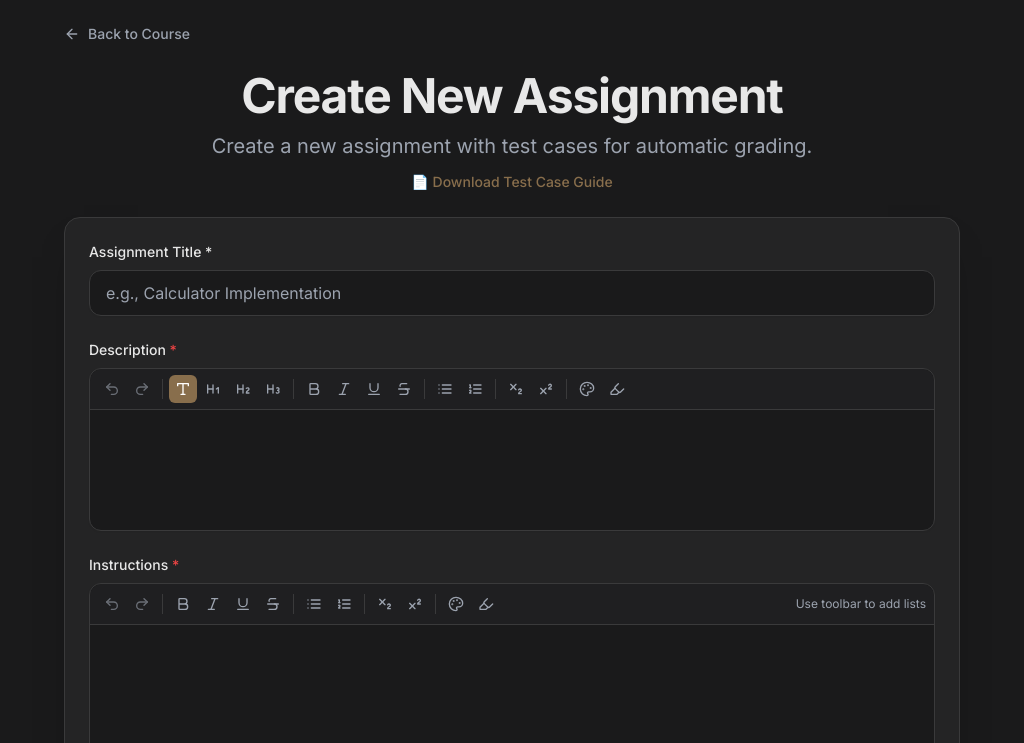
CreateAssignmentPage › validates required fields
This screenshot has width=1024, height=743.
Type "Homework 1" into the field labelled "Assignment Title *" at (512, 293), box [89,270,935,316]
(page scrolled)
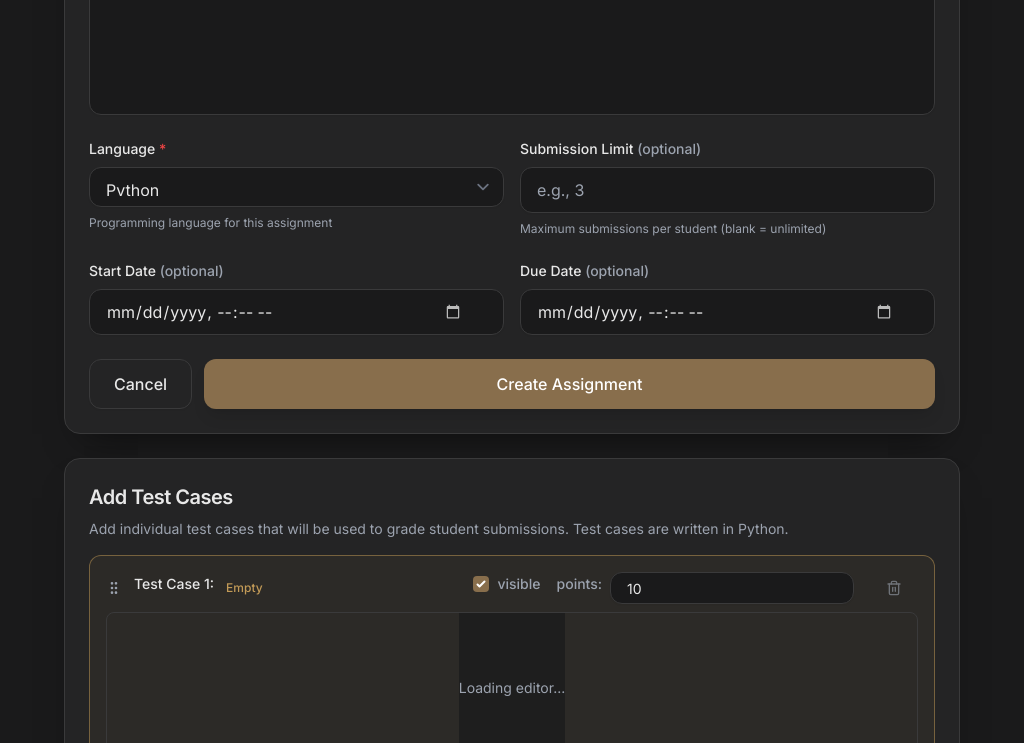
Click the button "Create Assignment" at (570, 384), box [204,359,935,409]
(page scrolled)
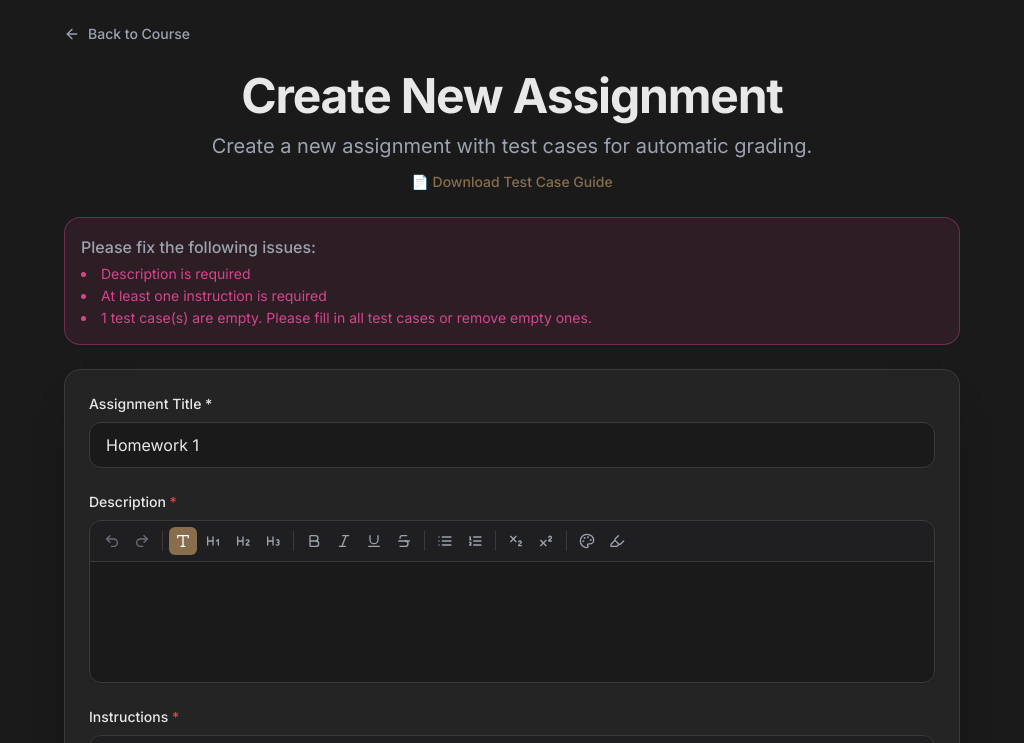
Expected: the list item "Description is required" is shown, [101,265,250,282]
